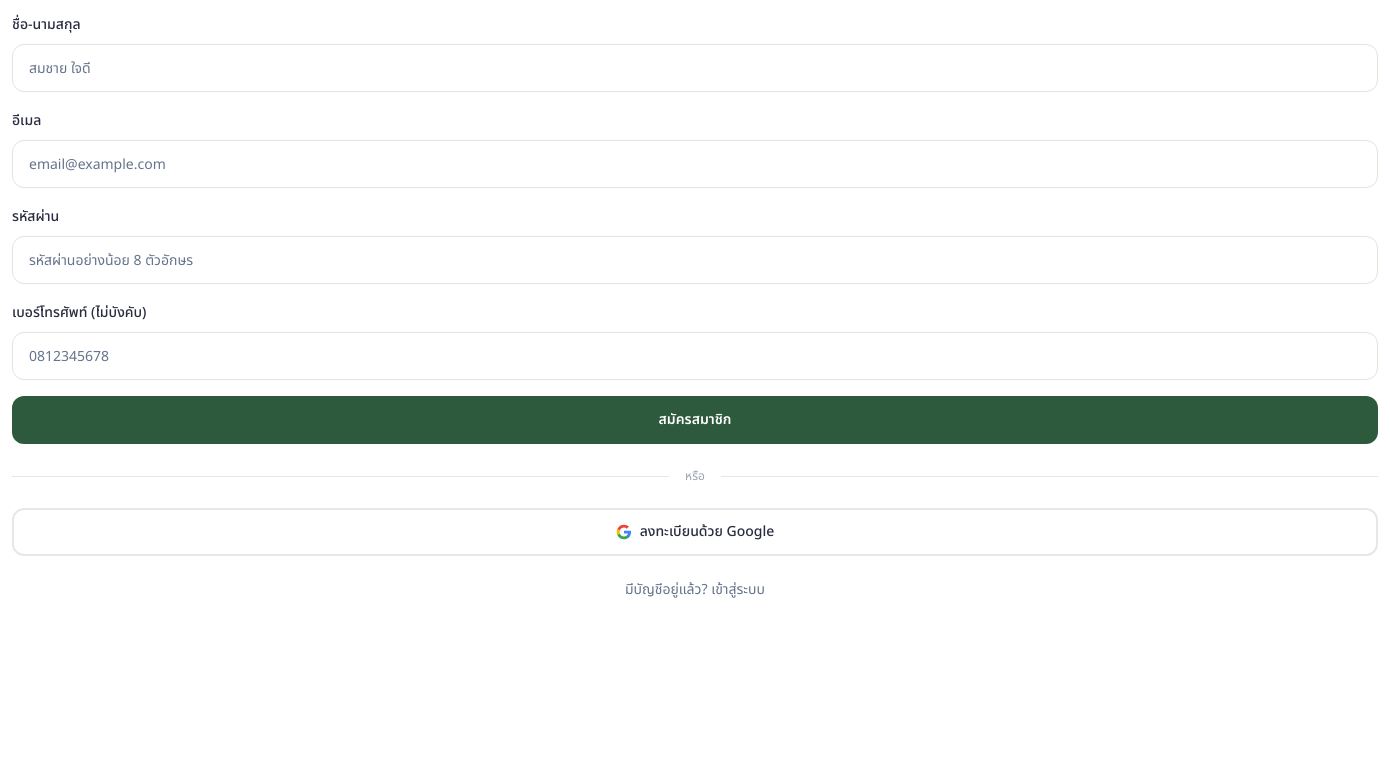
Scenario: SignupForm › Validation › shows validation error for invalid Thai phone number
Type "123456" into the field labelled "เบอร์โทรศัพท์ (ไม่บังคับ)" at coordinates (695, 356), box 12,332 -> 1378,380
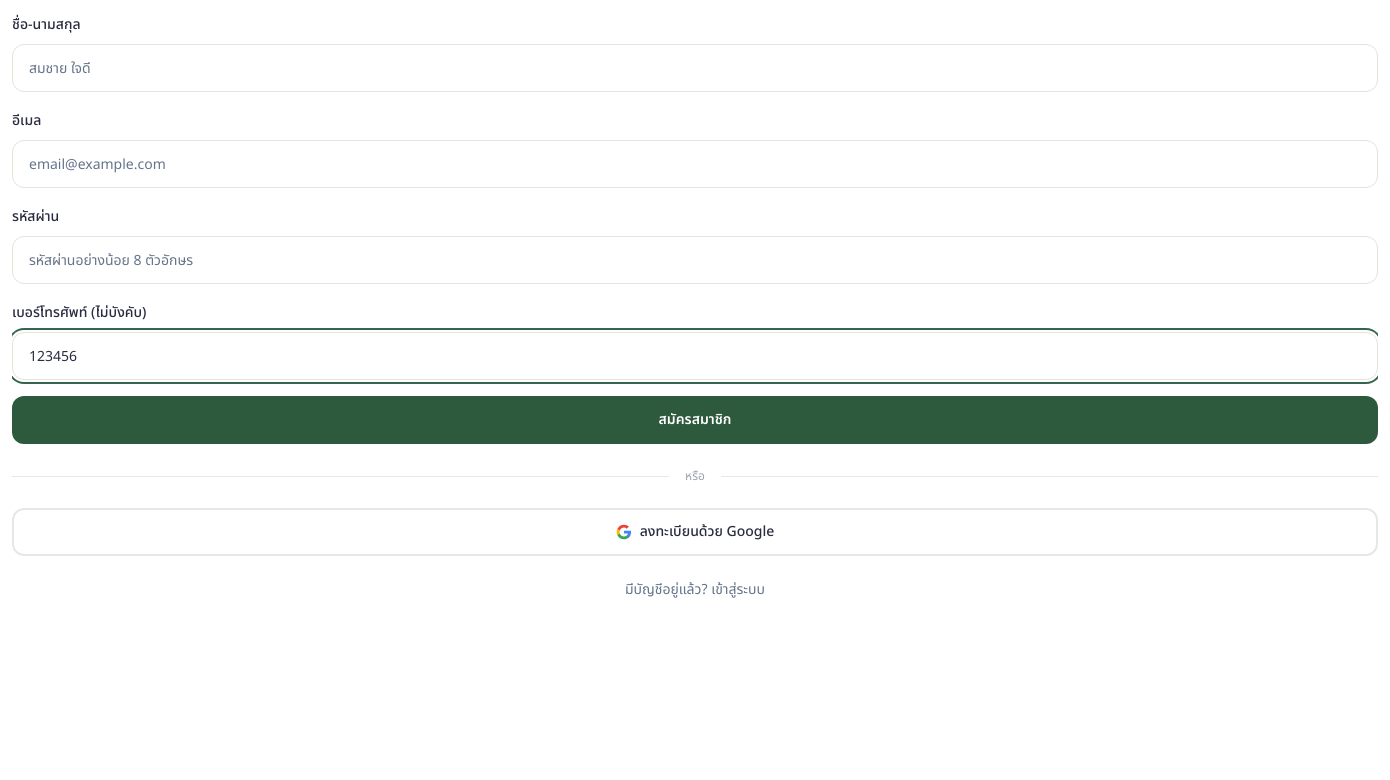
Click the button "สมัครสมาชิก" at coordinates (695, 420), box 12,396 -> 1378,444
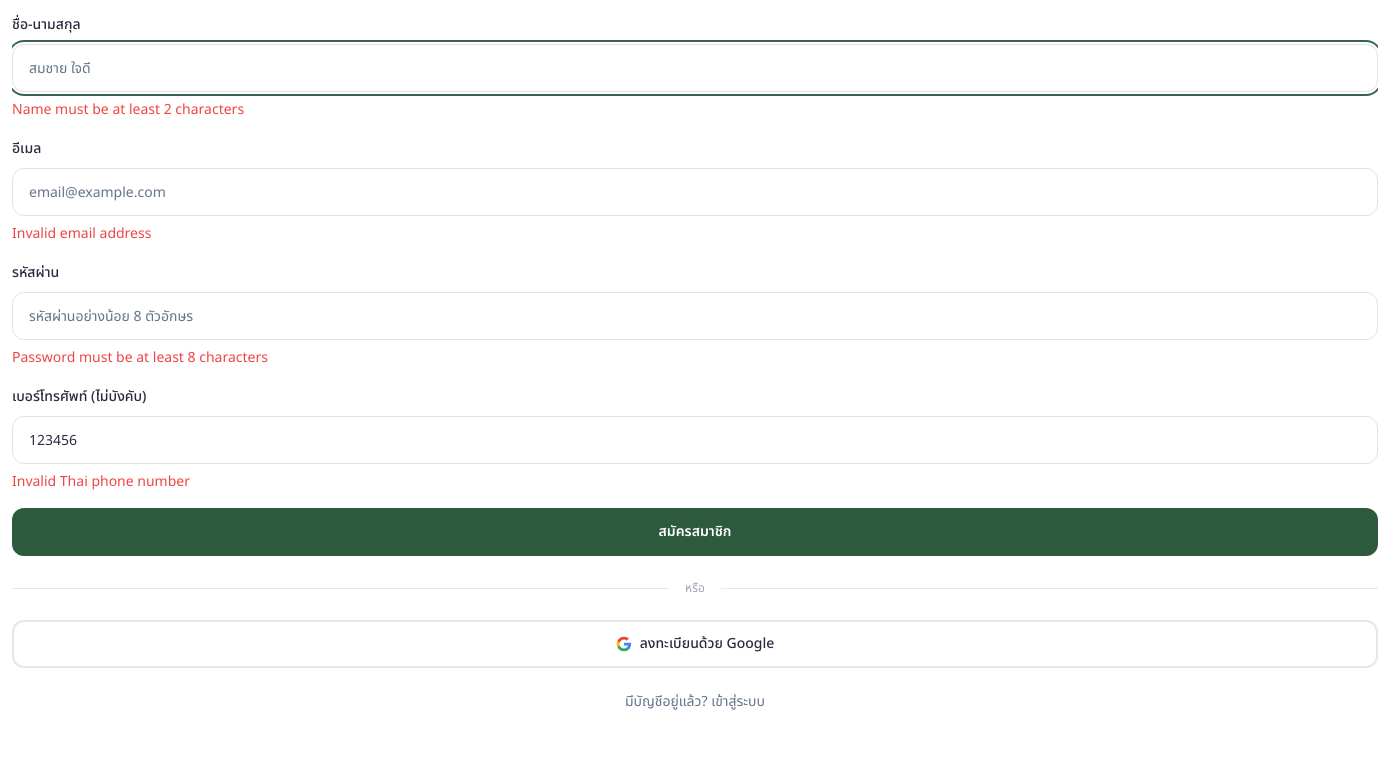
expect the text "Invalid Thai phone number" is shown: met, box 12,471 -> 190,492
